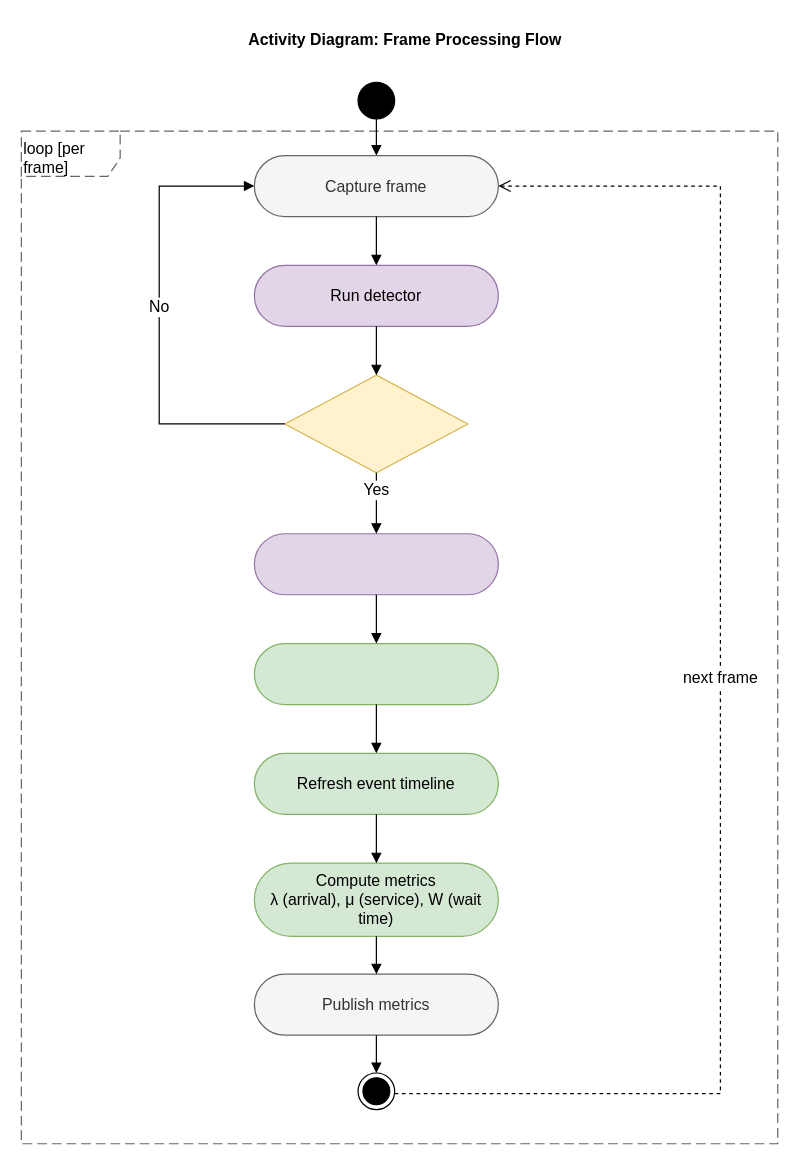
Some shapes in this 799 by 1165 pixel diagram are drawn without their labels. Each missing label, with the centre of its shape:
Filter by zone: the point at 375,673
People detected?: the point at 376,423
Run tracker: the point at 375,564
